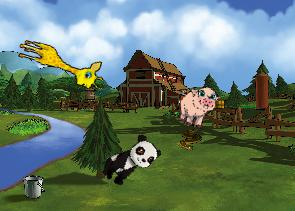giraffe: (12, 37, 107, 92)
panda: (97, 130, 163, 192)
pig: (173, 81, 221, 132)
